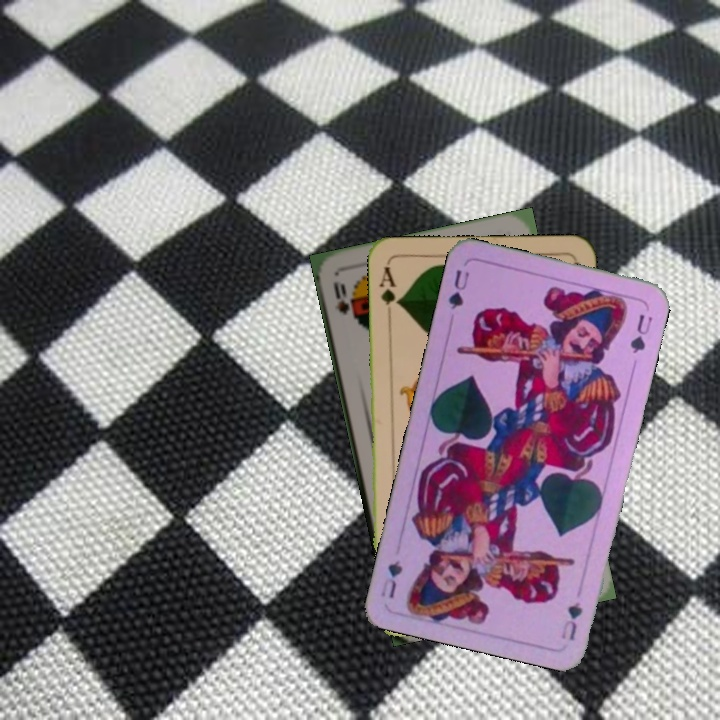GA: (375, 263, 402, 321)
GU: (444, 266, 472, 312), (557, 598, 585, 644)
SO: (329, 278, 357, 322)
